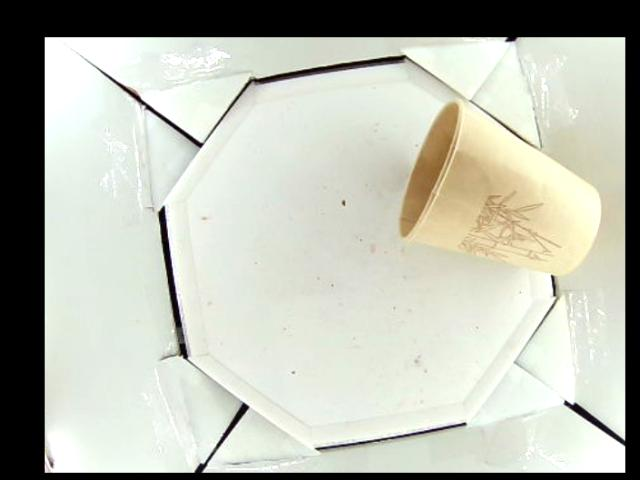Cup: (398, 100, 599, 275)
